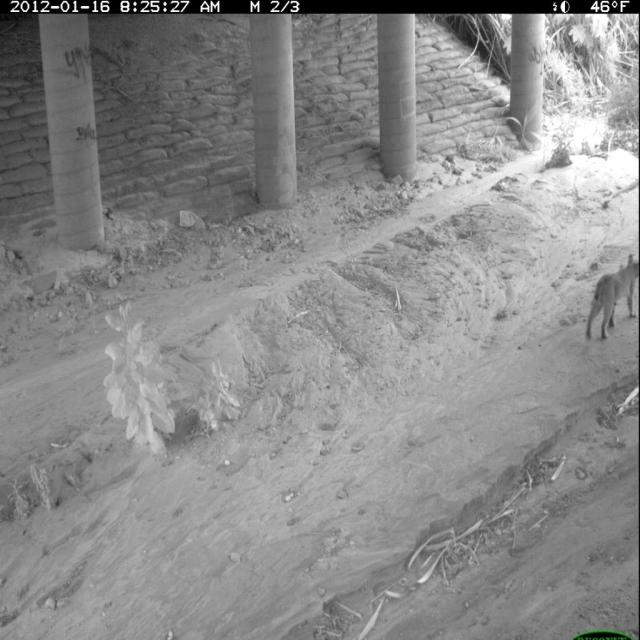bobcat: (583, 247, 640, 347)
